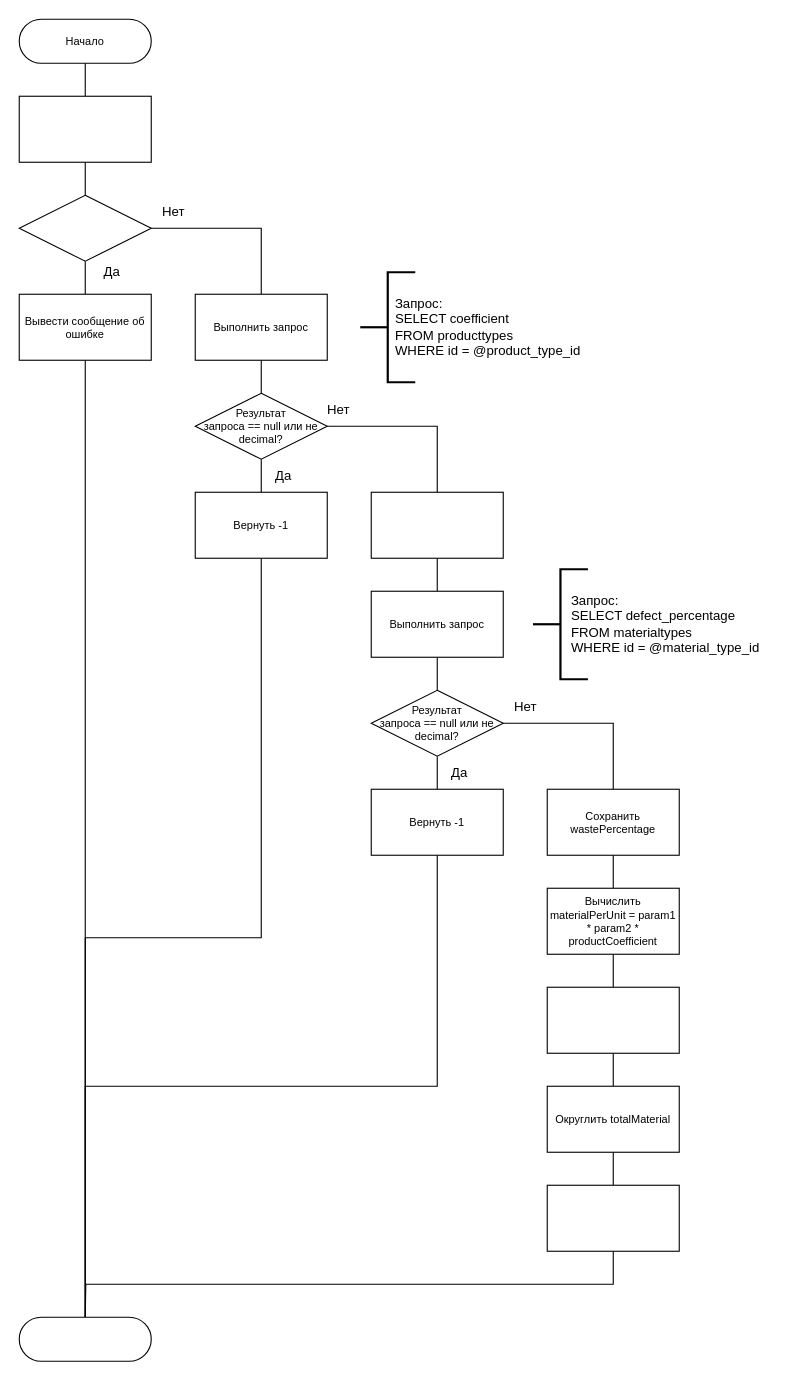
The diagram is 798 pixels wide and 1381 high, and some of its shapes have lost their labels. The centre of each missing label's shape, as x and y in pixels:
"Вернуть результат" belongs at (x=612, y=1217).
"Вычислить totalMaterial = (materialPerUnit * quantity) / (1 - wastePercentage)" belongs at (x=612, y=1019).
"Конец" belongs at (x=84, y=1338).
"Подключение к бд" belongs at (x=84, y=128).
"Произошла ли ошибка при подключении?" belongs at (x=84, y=227).
"Сохранить productCoefficient" belongs at (x=436, y=524).
